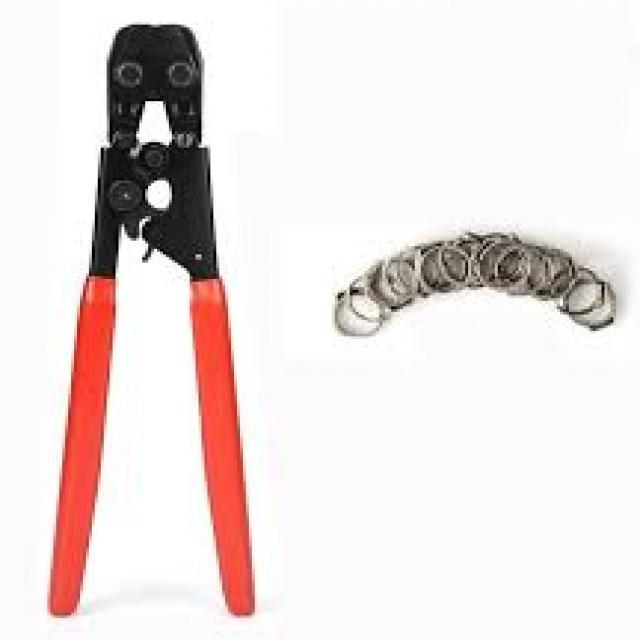pliers: (53, 16, 267, 618)
